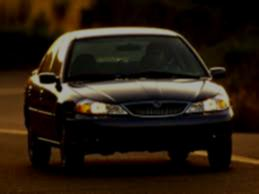Mercury: (151, 98, 166, 111)
